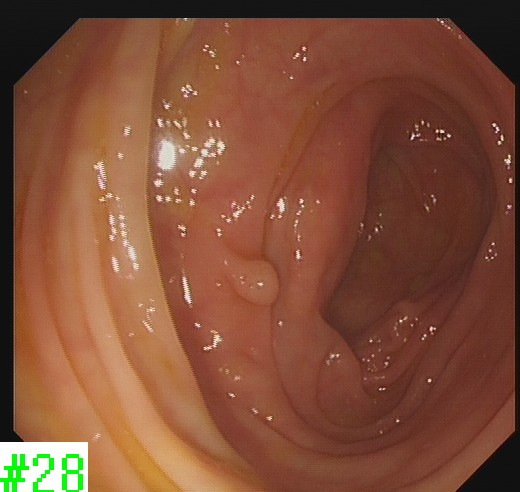adenoma: (221, 256, 282, 309)
